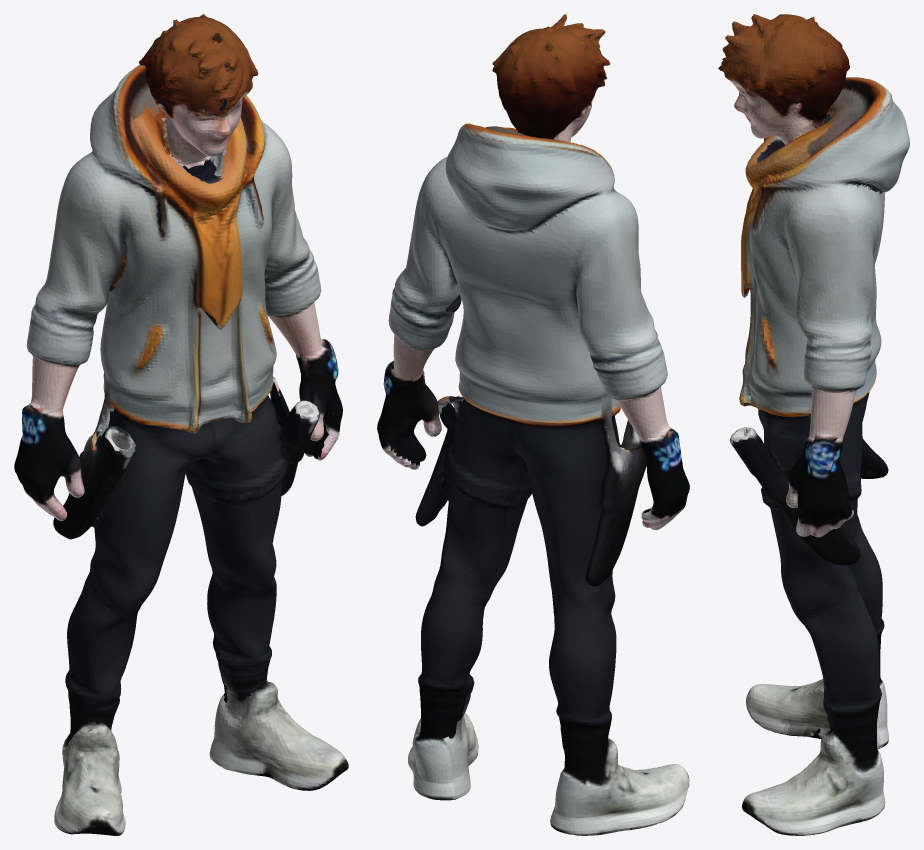
File: iren.glb
3 renders of one model, left to right at view 1: azimuth 30°, elevation 25°; view 2: azimuth 150°, elevation 25°; view 3: azimuth 270°, elevation 25°, orthographic. The views are drawn at different scales.
Visible parts, largest first — view 1: tmptxh618y3.ply; view 2: tmptxh618y3.ply; view 3: tmptxh618y3.ply.
Part boxes in pixels (x1=…): tmptxh618y3.ply: x1=14, y1=14, x2=348, y2=835; tmptxh618y3.ply: x1=377, y1=14, x2=689, y2=835; tmptxh618y3.ply: x1=718, y1=14, x2=909, y2=835.
Size of the model in its own units: 0.8344 by 1.99 by 0.4556.
1 material, 1 textured.
